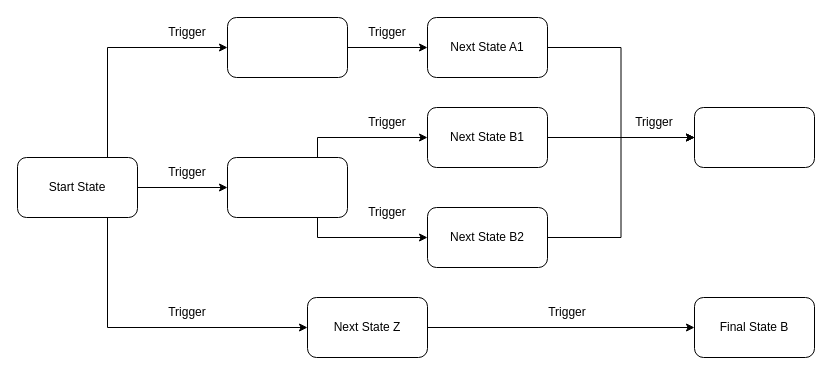
Image size: 832x375. Some labels were removed from this diagram. The shapes that lost their labels are listed below. From the top down, each one's centre as x and y in pixels, then its label:
the point at 287,47: Next State A
the point at 754,137: Final State A
the point at 287,187: Next State B
